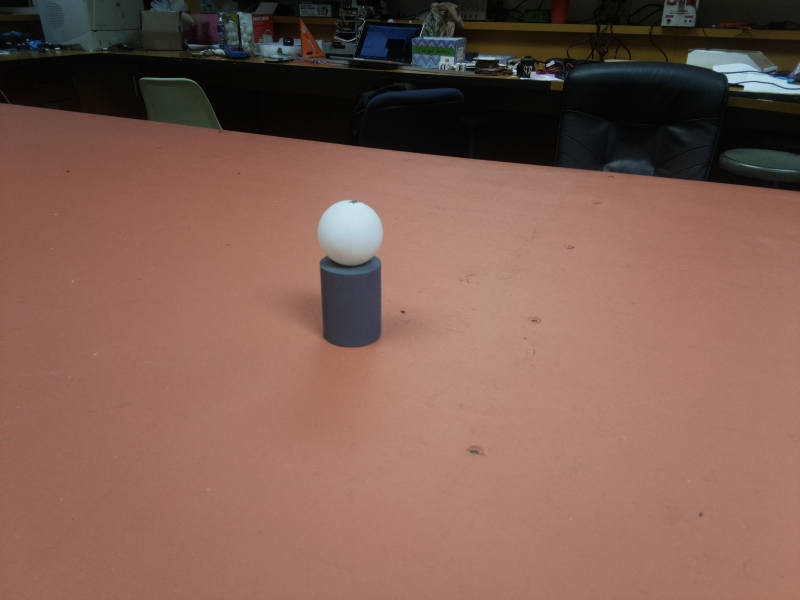obstacle: (317, 201, 384, 350)
